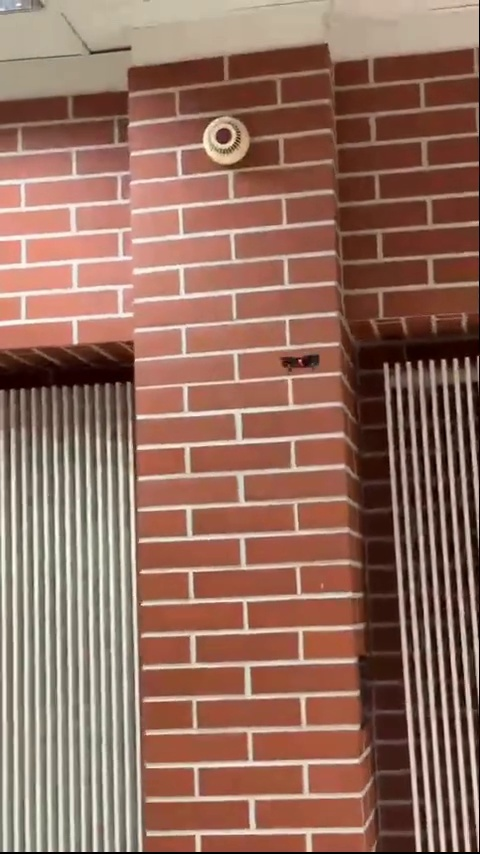drone: (275, 352, 337, 373)
